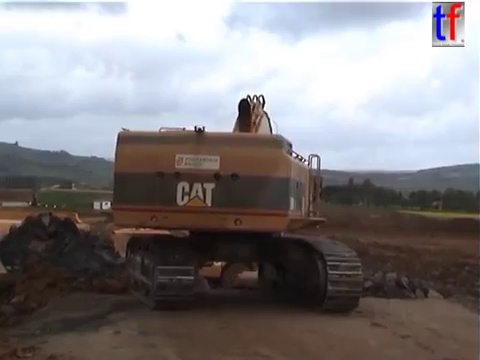excavator: (108, 90, 367, 316)
truck: (1, 209, 134, 327), (196, 222, 311, 297), (98, 224, 189, 299)
